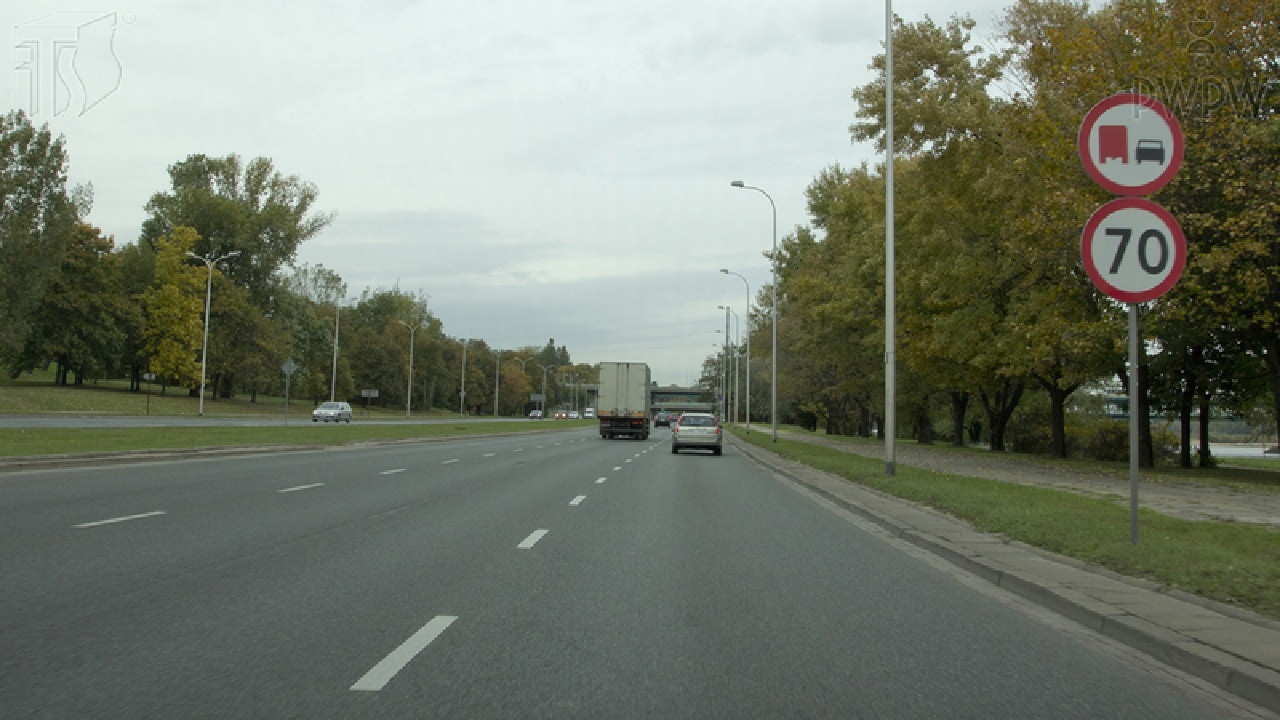B33_70: (1081, 197, 1187, 302)
